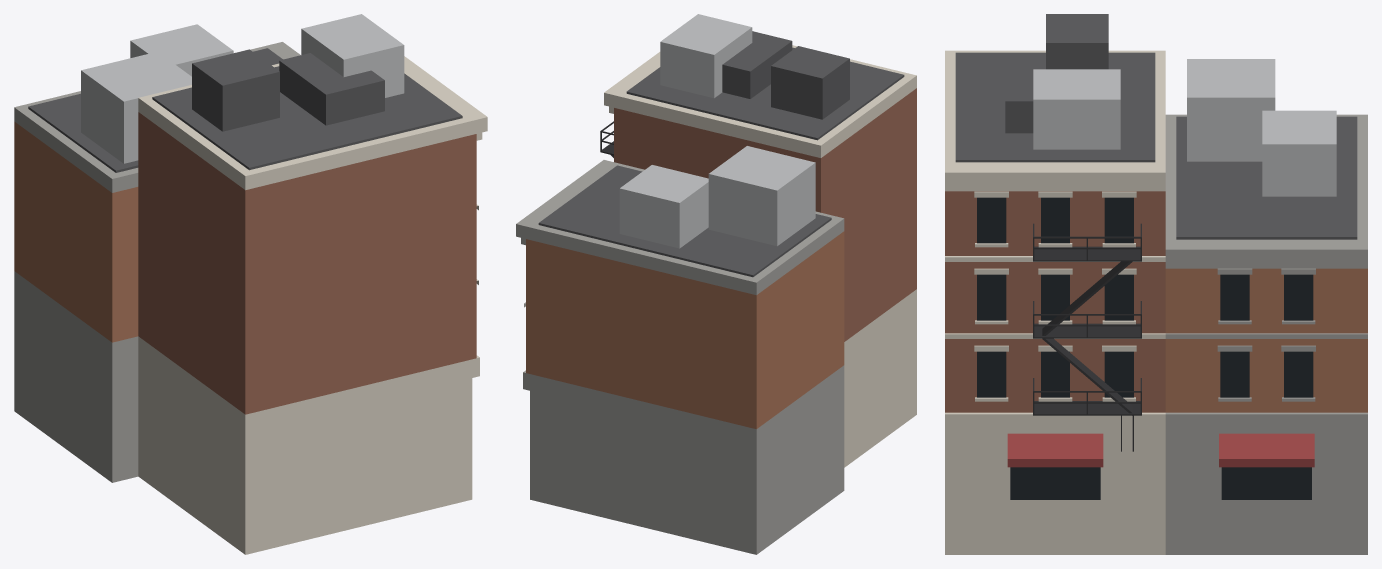
3 renders of one model, left to right at view 1: azimuth 30°, elevation 25°; view 2: azimuth 150°, elevation 25°; view 3: azimuth 270°, elevation 25°, orthographic. The views are drawn at different scales.
Parts seen in each view (by area): view 1: facades, roofs; view 2: facades, roofs; view 3: facades, roofs, windows.
Boxes of the visible parts, <box> form: facades: <box>14,42,487,554</box>; roofs: <box>28,14,462,172</box>; facades: <box>516,45,916,554</box>; roofs: <box>538,14,904,277</box>; facades: <box>945,50,1367,554</box>; roofs: <box>955,14,1357,239</box>; windows: <box>977,197,1313,499</box>.
Size of the model in its own units: 12.72 by 18.37 by 15.9.
